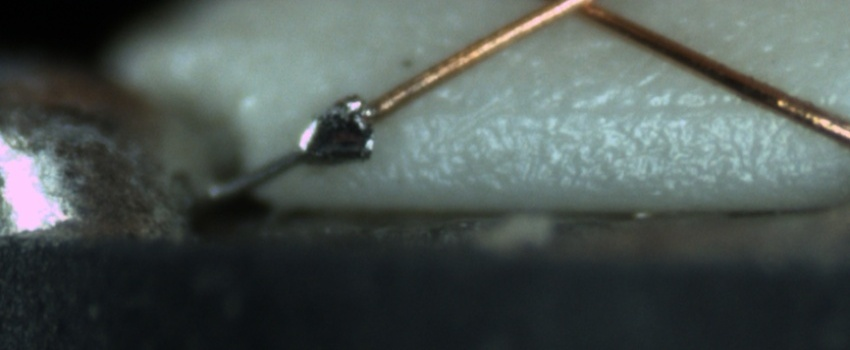CL: (518, 0, 613, 29)
DL: (417, 76, 850, 140)
TB: (296, 92, 379, 163)
TS: (206, 106, 373, 206)
TTCW: (211, 62, 443, 204)
